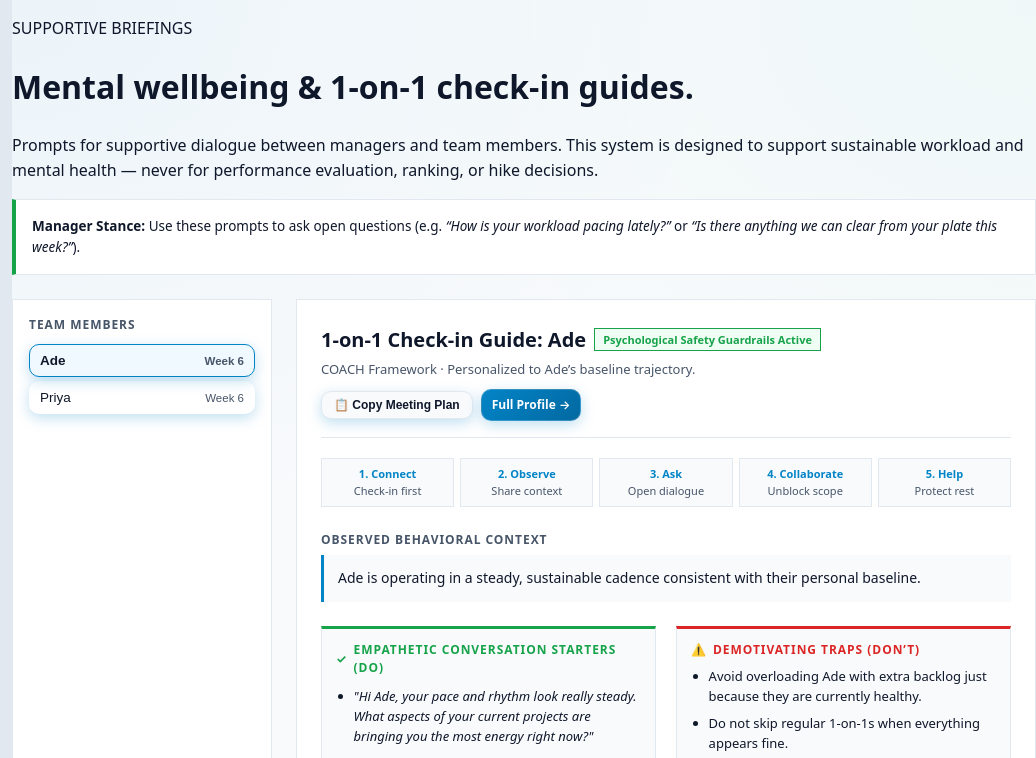
ManagerBriefings › renders team roster and selected 1-on-1 check-in guide
Expected: the heading "1-on-1 Check-in Guide: Ade" is shown, [321, 324, 586, 355]
Expected: the heading "✓ Empathetic Conversation Starters (DO)" is shown, [336, 640, 641, 678]
Switch to Priya
What coordinates should you click on to do the following:
click the button "Priya Week 6"
I would click on:
 (142, 398)
Its box is [29, 381, 255, 414].
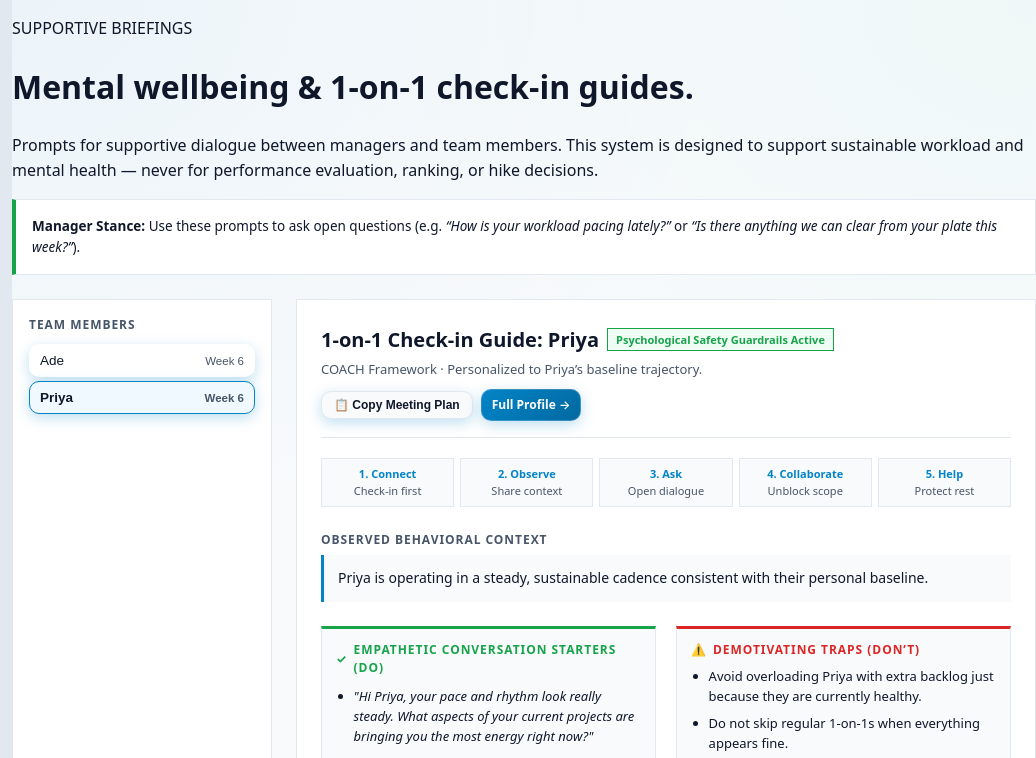
Expected: the heading "1-on-1 Check-in Guide: Priya" is shown, [321, 324, 599, 355]
